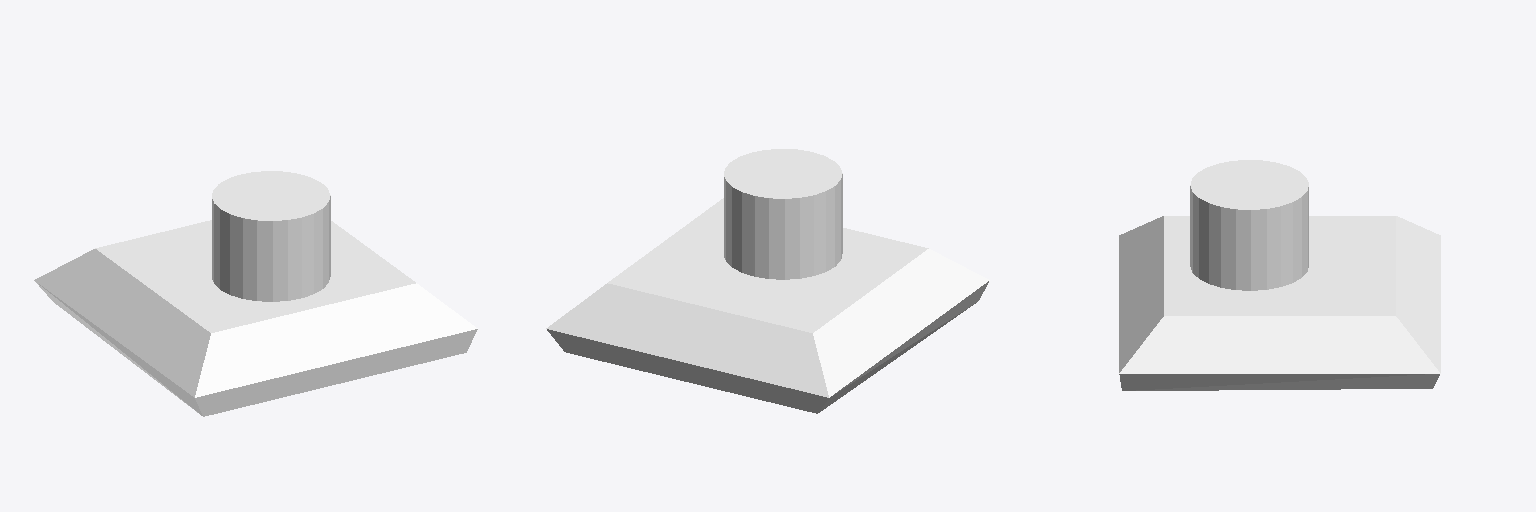
The model's file is Router.obj.
3 views of the same model, side by side, from view 1: azimuth 30°, elevation 25°; view 2: azimuth 150°, elevation 25°; view 3: azimuth 270°, elevation 25° (orthographic).
Parts seen in each view (by area): view 1: Mesh1 Model; view 2: Mesh1 Model; view 3: Mesh1 Model.
Part boxes in pixels (left/top/right/bottom): Mesh1 Model: left=34, top=171, right=477, bottom=416; Mesh1 Model: left=546, top=149, right=989, bottom=413; Mesh1 Model: left=1119, top=160, right=1440, bottom=390.
Bounding box in the file's own units: 0.22 × 0.1054 × 0.2163.